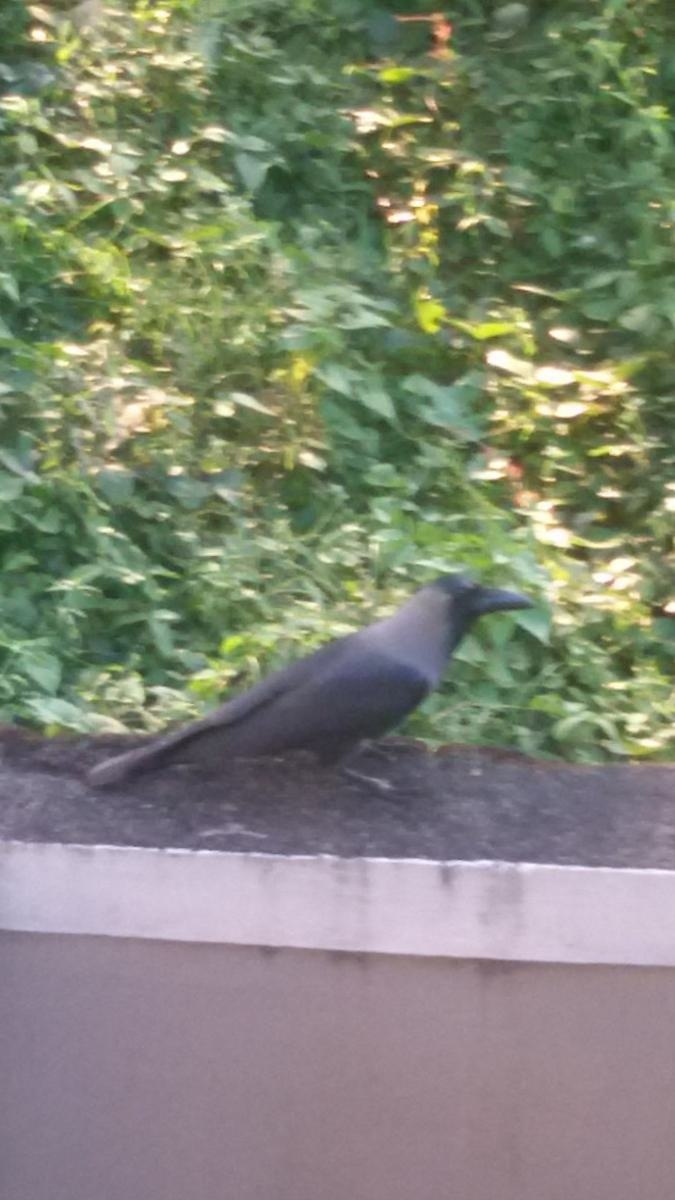crow: (96, 524, 561, 811)
